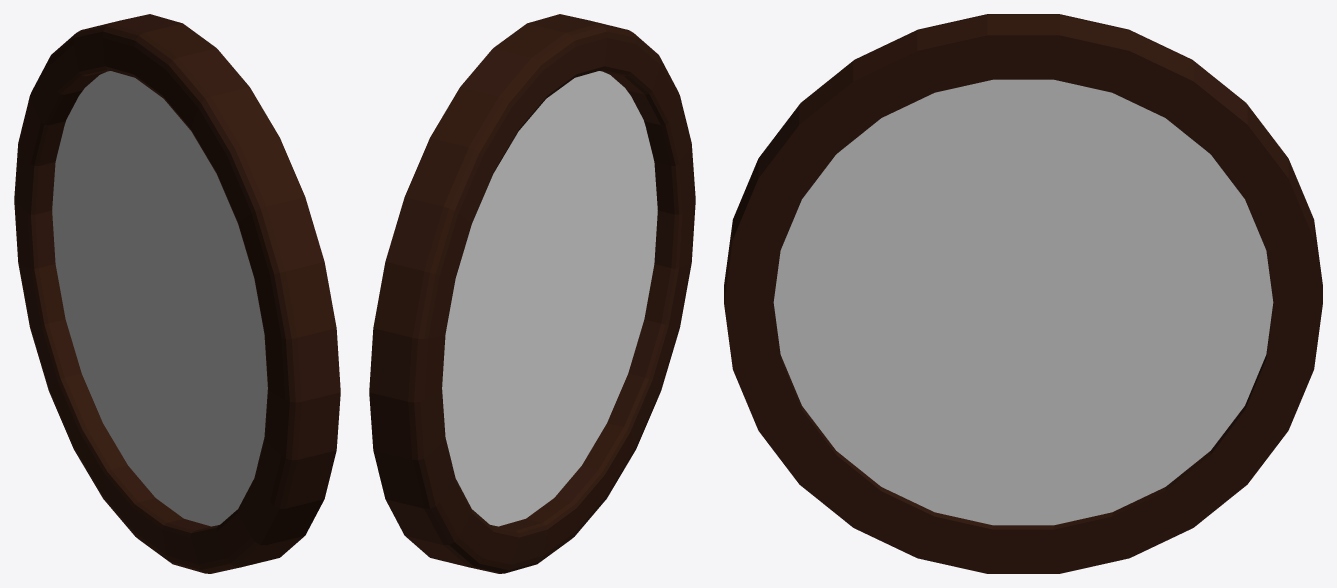
Rendered from mirroir.fbx.
3 views of the same model, side by side, from view 1: azimuth 30°, elevation 25°; view 2: azimuth 150°, elevation 25°; view 3: azimuth 270°, elevation 25° (orthographic). The views are drawn at different scales.
Visible parts, largest first — view 1: Circle.017, Circle.018; view 2: Circle.017, Circle.018; view 3: Circle.018, Circle.017.
Part boxes in pixels (x1=…): Circle.017: x1=14, y1=14, x2=340, y2=573; Circle.018: x1=52, y1=71, x2=267, y2=526; Circle.017: x1=369, y1=14, x2=695, y2=573; Circle.018: x1=442, y1=71, x2=657, y2=526; Circle.018: x1=773, y1=79, x2=1273, y2=525; Circle.017: x1=724, y1=14, x2=1322, y2=573.
Bounding box in the file's own units: 22.51 × 209 × 211.
